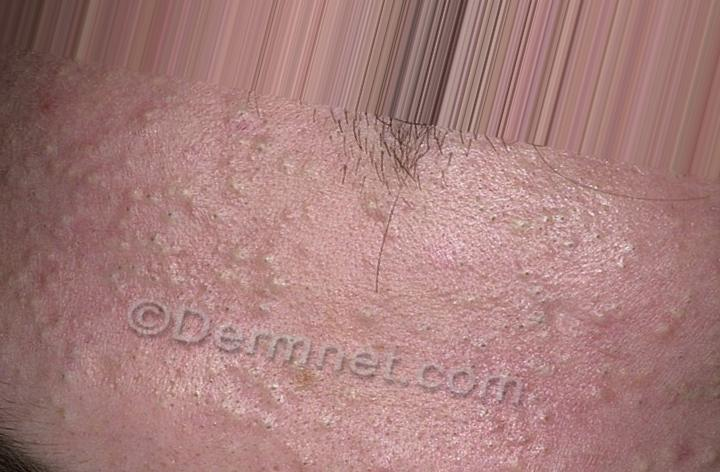Acne: (269, 142, 309, 213), (632, 292, 672, 358), (238, 249, 291, 297), (30, 243, 71, 301), (580, 295, 621, 351), (192, 168, 248, 209), (226, 112, 262, 166), (158, 255, 186, 289), (135, 98, 158, 134), (123, 186, 161, 203)
